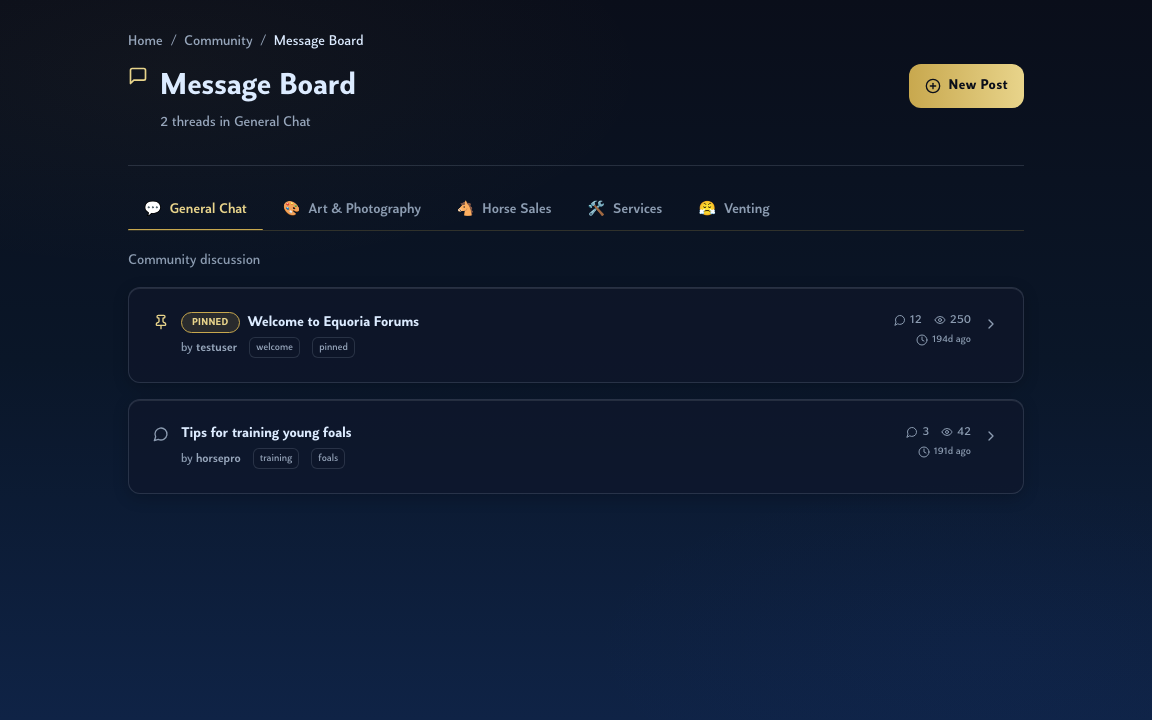
MessageBoardPage — section tab switching (Equoria-o5hub.30) › switching to the Sales section shows sales threads and hides general threads
Expected: the heading "Welcome to Equoria Forums" is shown, [248,312,419,332]
Click the tab with test id "section-tab-sales" at (504, 210), box [441,190,568,230]
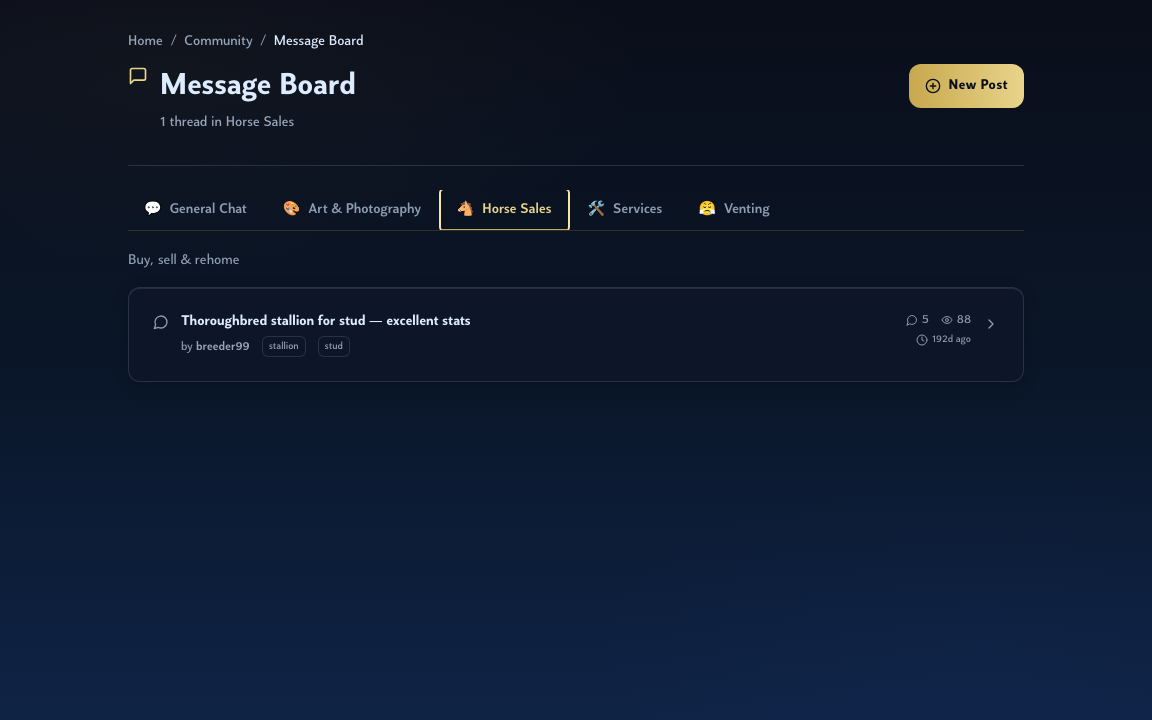
Now the heading "Thoroughbred stallion for stud — excellent stats" is shown, box [181,312,471,332]
Now the link "Welcome to Equoria Forums" is gone
